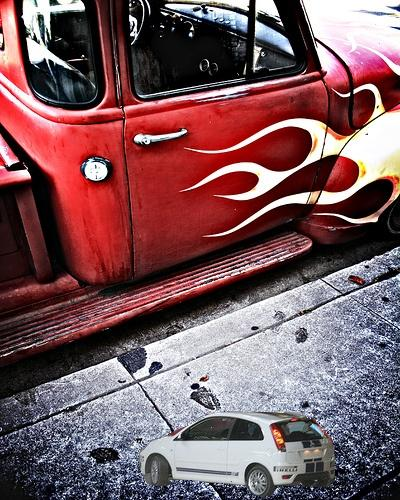tampered: (140, 412, 335, 499)
